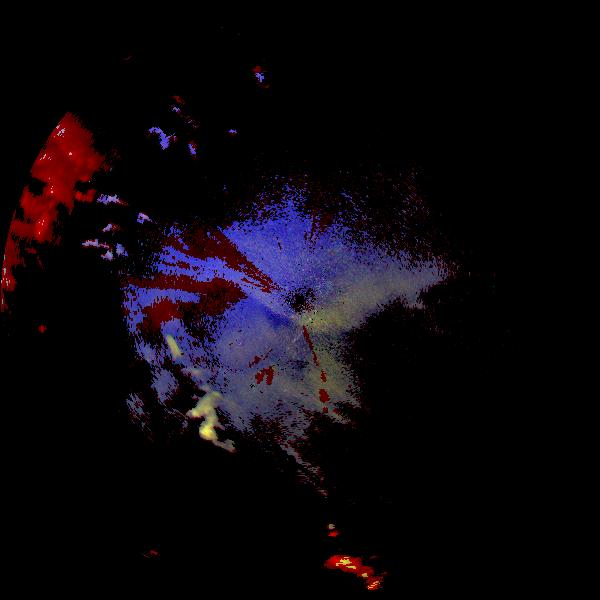roost: (142, 332, 196, 386)
